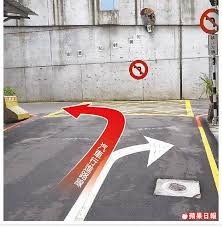No_left_turn: (128, 58, 148, 79)
